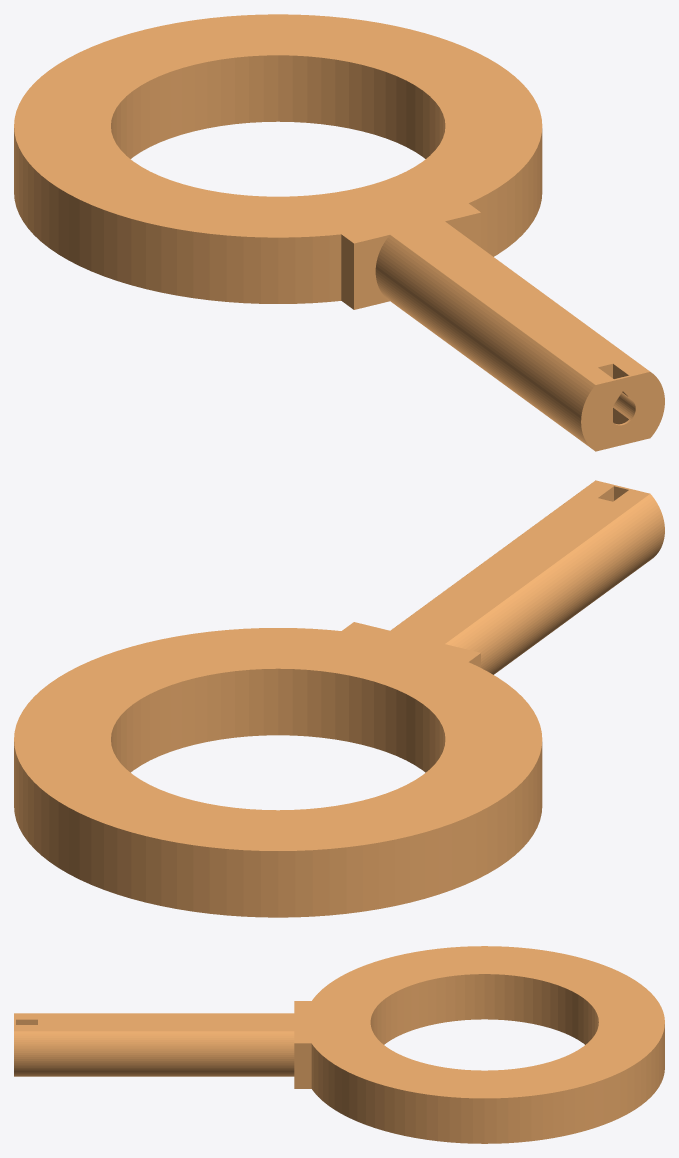
The model's file is kit-spinner-pin.glb.
3 renders of one model, top to bottom at view 1: azimuth 30°, elevation 25°; view 2: azimuth 150°, elevation 25°; view 3: azimuth 270°, elevation 25°, orthographic. The views are drawn at different scales.
Visible parts, largest first — view 1: kit-spinner-pin; view 2: kit-spinner-pin; view 3: kit-spinner-pin.
Boxes of the visible parts, bbox=[...] form: kit-spinner-pin: bbox=[14, 14, 664, 451]; kit-spinner-pin: bbox=[14, 480, 664, 917]; kit-spinner-pin: bbox=[14, 946, 664, 1143].
Size of the model in its own units: 0.036 by 0.005 by 0.065.
